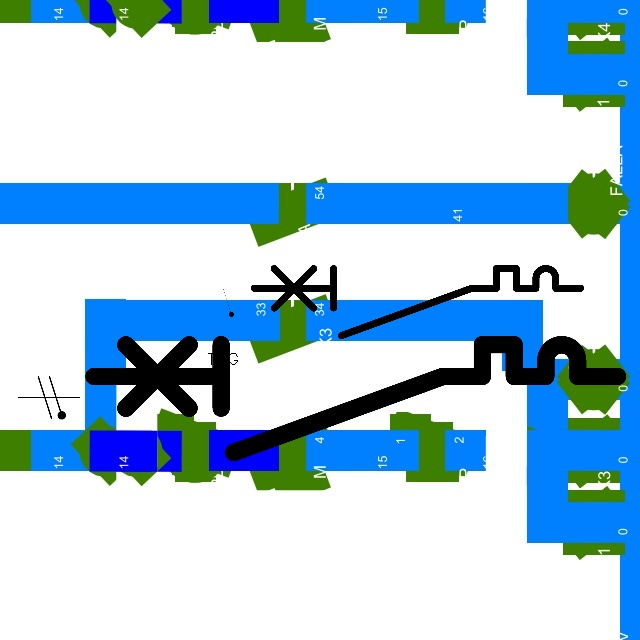interruptor_termomagnetico: (80, 331, 631, 466), (245, 260, 588, 344)
